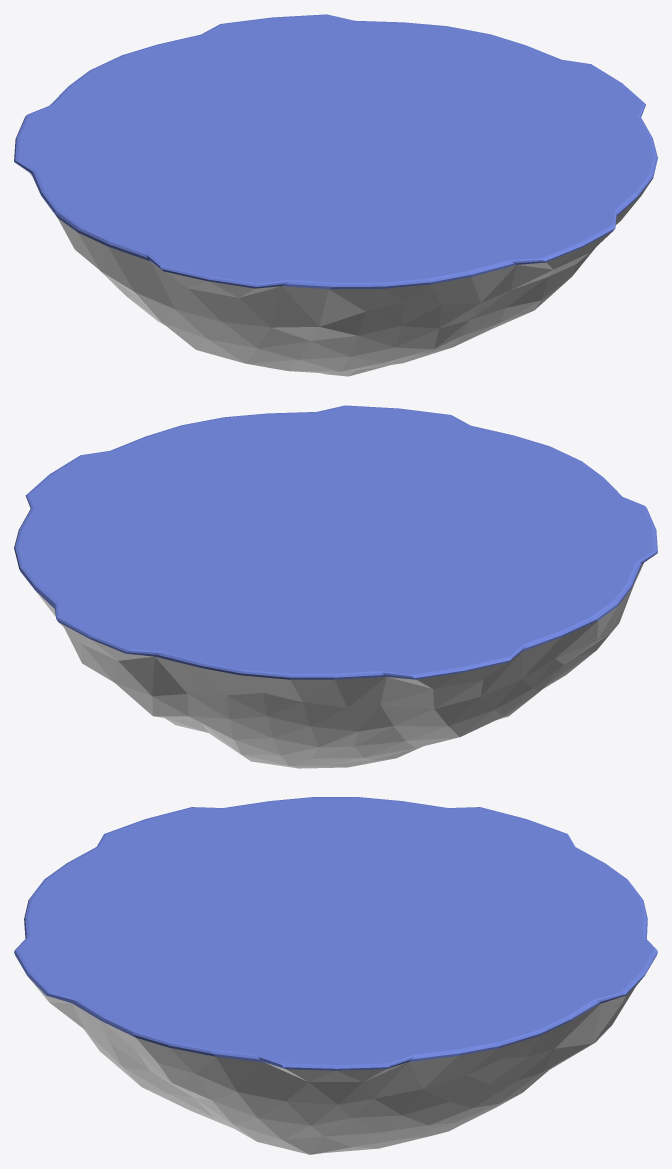
The model's file is Island2.fbx.
3 views of the same model, one above another, from view 1: azimuth 30°, elevation 25°; view 2: azimuth 150°, elevation 25°; view 3: azimuth 270°, elevation 25° (orthographic).
Visible parts, largest first — view 1: Island2; view 2: Island2; view 3: Island2.
Boxes of the visible parts, x1,y1,x2,y2 form: Island2: (14, 14, 657, 376); Island2: (14, 405, 657, 768); Island2: (14, 797, 657, 1154).
Size of the model in its own units: 14.09 by 4.8 by 14.14.
